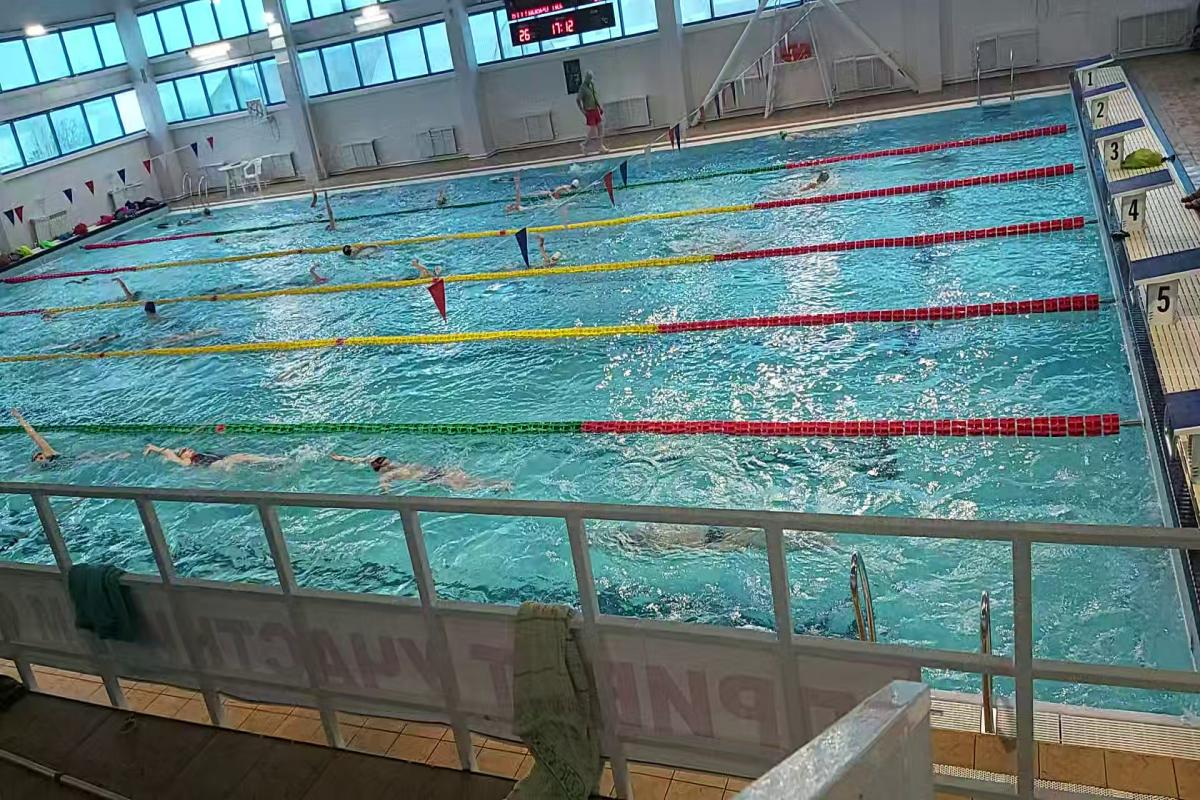swimmer: (333, 445, 523, 496), (621, 520, 817, 558), (140, 438, 300, 481), (5, 413, 124, 470), (786, 165, 835, 194), (103, 270, 143, 302), (532, 234, 568, 269), (502, 196, 550, 220), (133, 295, 168, 324), (340, 240, 388, 259), (319, 199, 345, 233), (410, 253, 442, 277), (307, 263, 330, 287)
